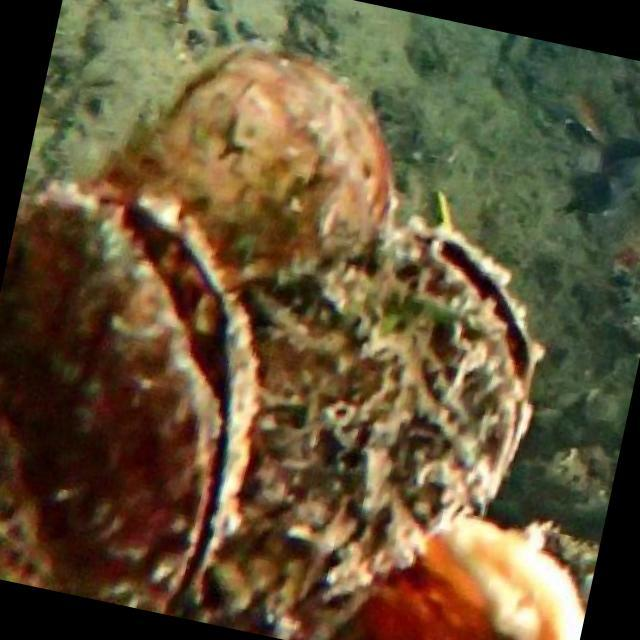Oyster-Closed: (107, 37, 392, 266)
Oyster-Open: (0, 192, 257, 621), (243, 231, 539, 591)
